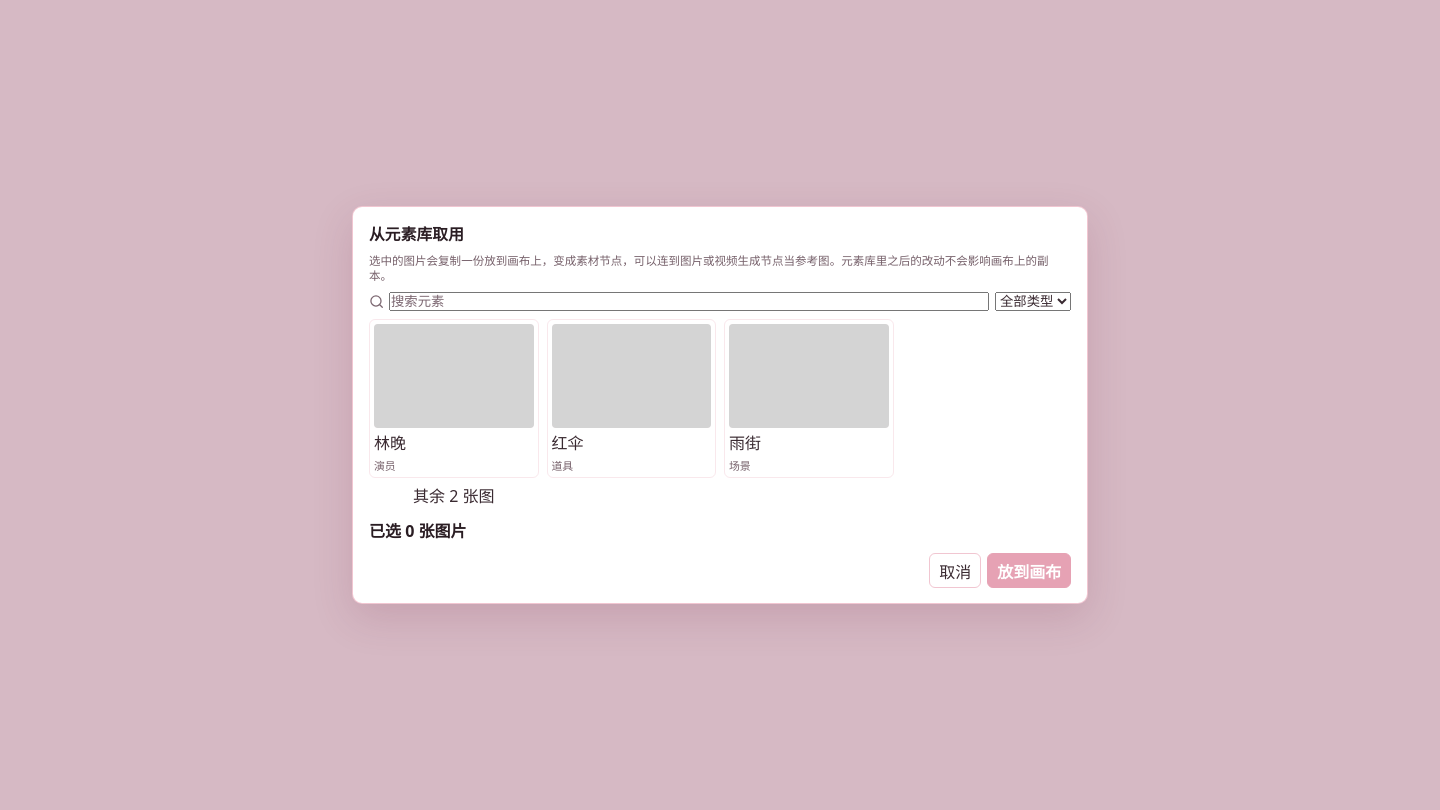
Test: taking pictures from the element library › says why when the canvas cannot be saved first, takes nothing and stays open
Click the button with aria-label "红伞 · 道具": (631, 398) [546, 319, 716, 478]
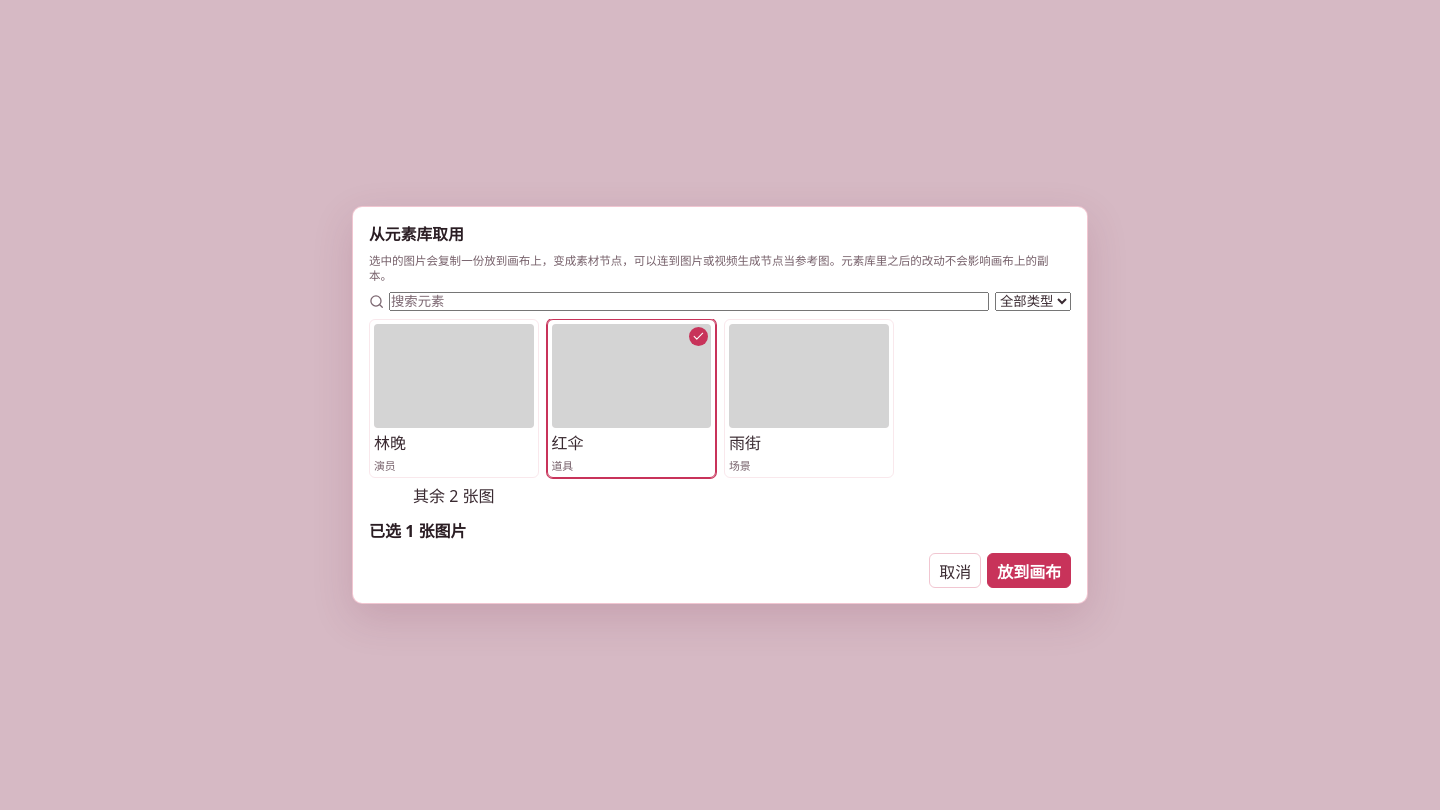
Click the button "放到画布": (1029, 571) [987, 553, 1071, 588]
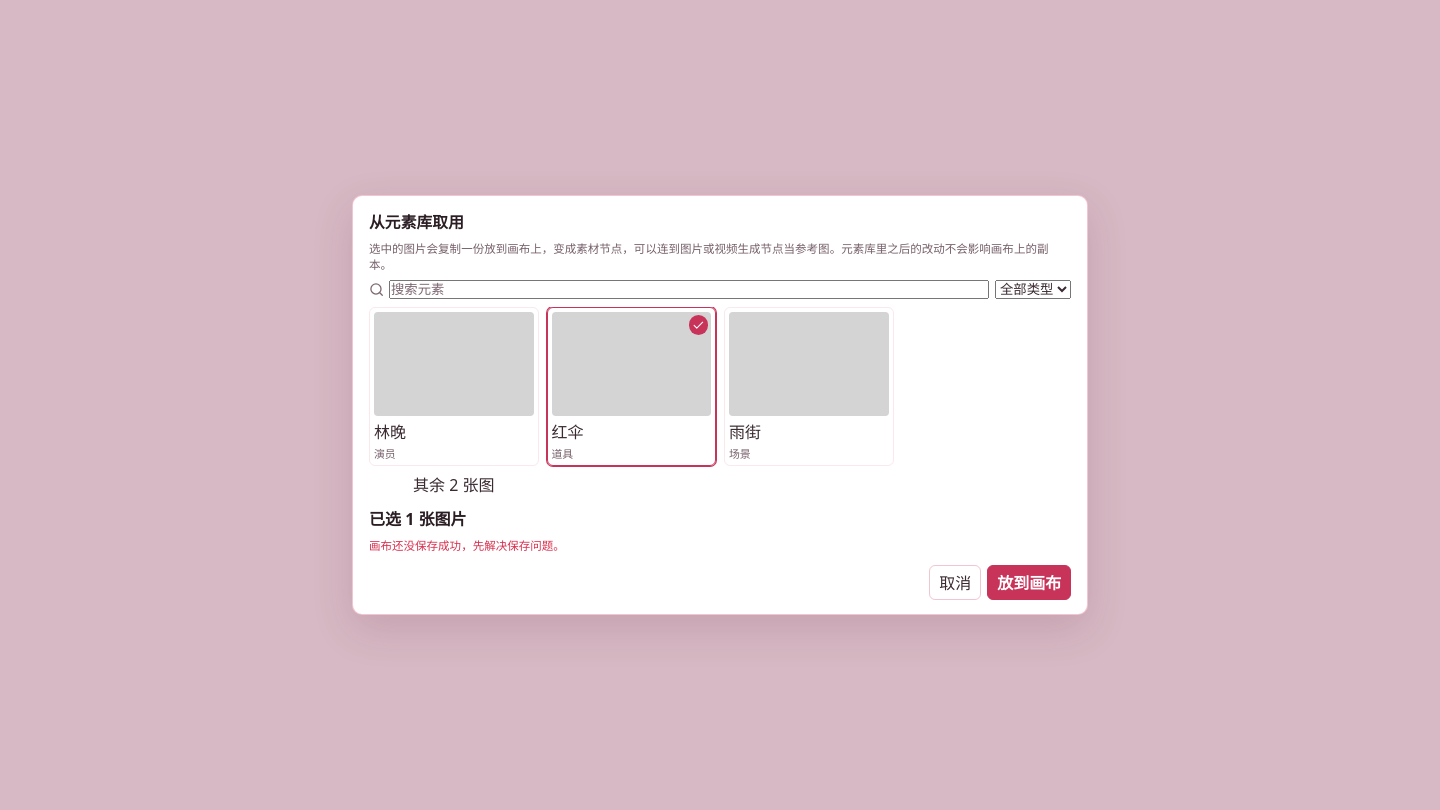
Expected: the message shows "画布还没保存成功", [369, 538, 565, 553]
